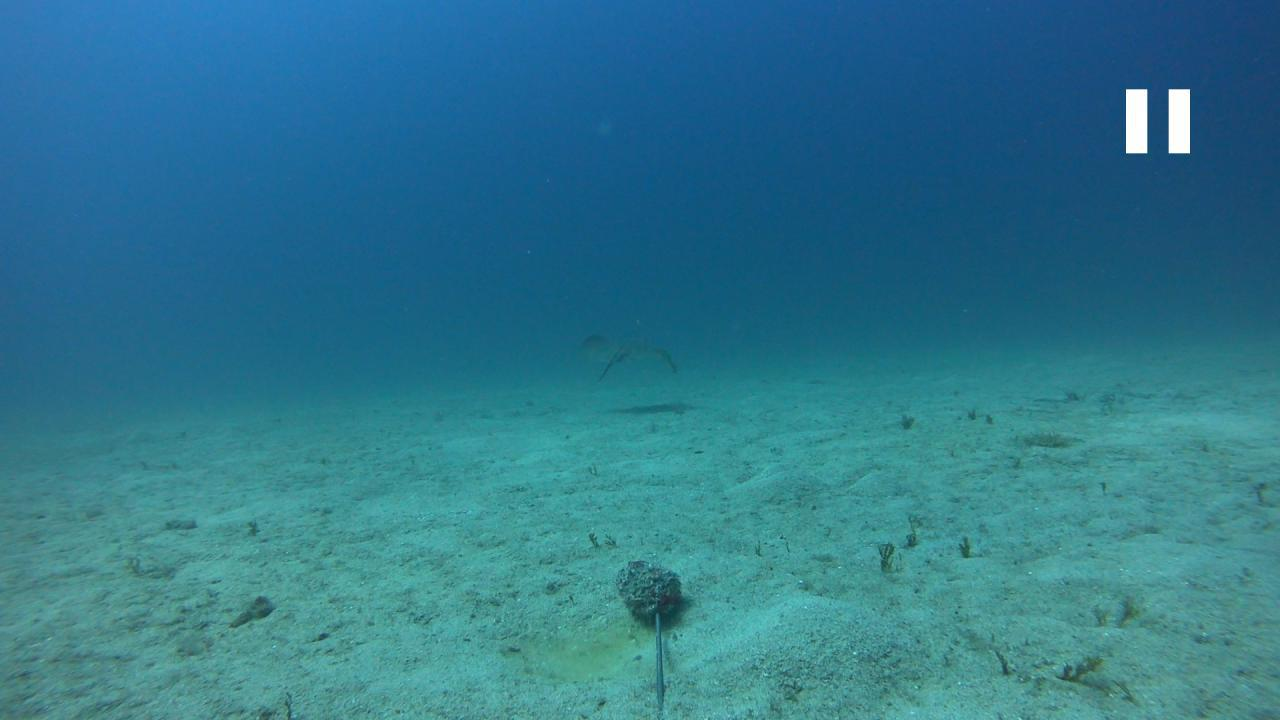dasyatis: (580, 332, 684, 381)
